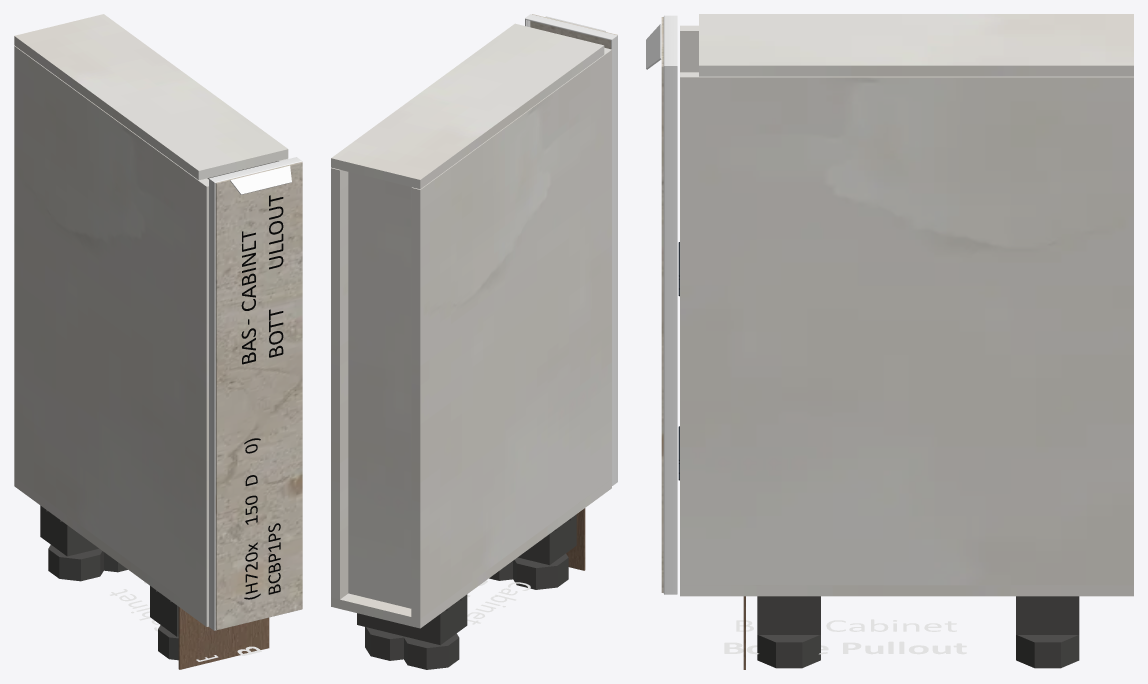
The model's file is BCBP1PS_EH (H720xW150xD560).glb.
The picture shows the model from 3 angles, left to right: view 1: azimuth 30°, elevation 25°; view 2: azimuth 150°, elevation 25°; view 3: azimuth 270°, elevation 25°; orthographic projection. The views are drawn at different scales.
Size of what is drawn, in the model's own units: 0.15 by 0.82 by 0.6.
9 materials, 3 textured.
